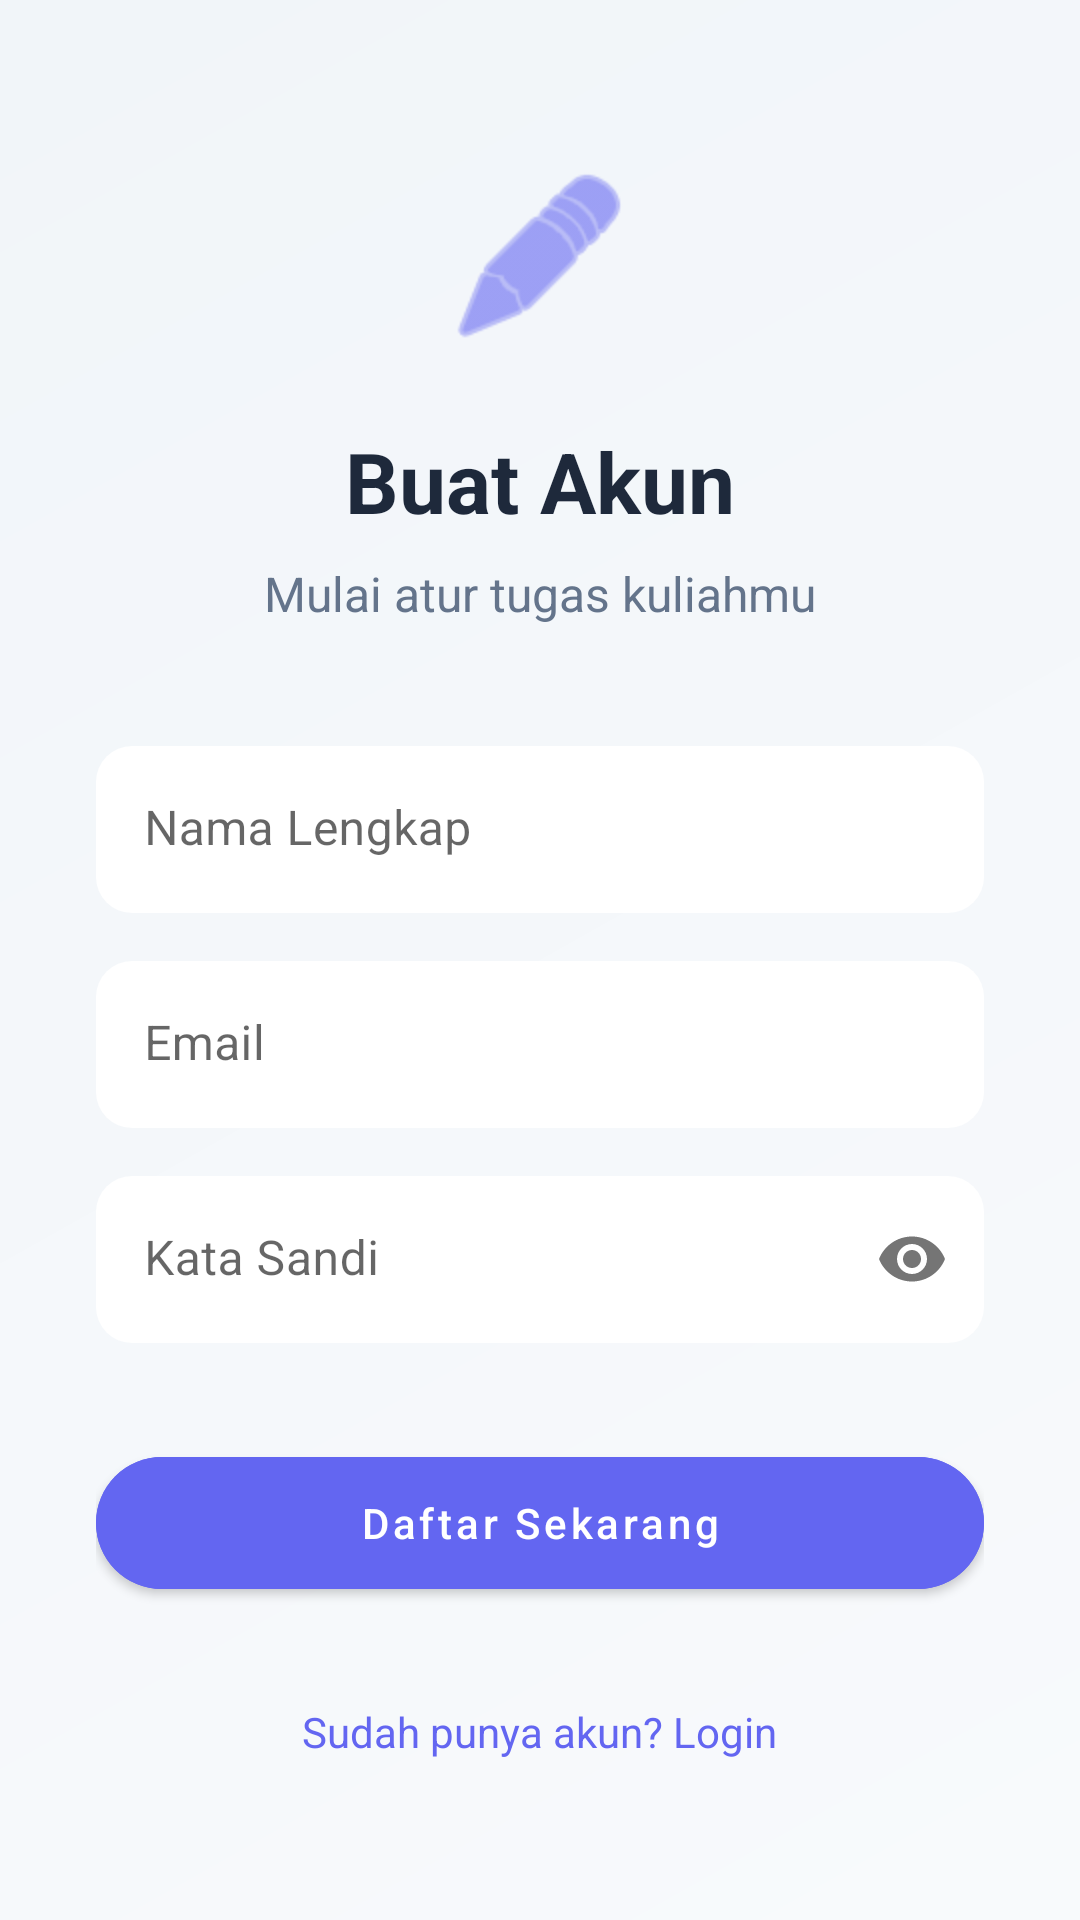

Named icons in this screenshot (1080x1920) and their bounding boxes, (x1, y1, x2, y2):
Register Icon: (458, 175, 620, 337)
